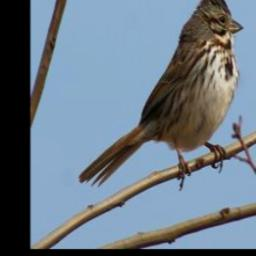Sparrow: (77, 0, 244, 190)
